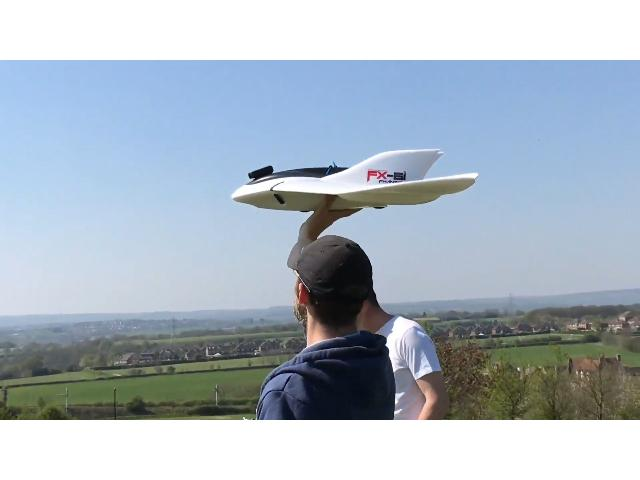Anti-Drone: (222, 137, 492, 219)
